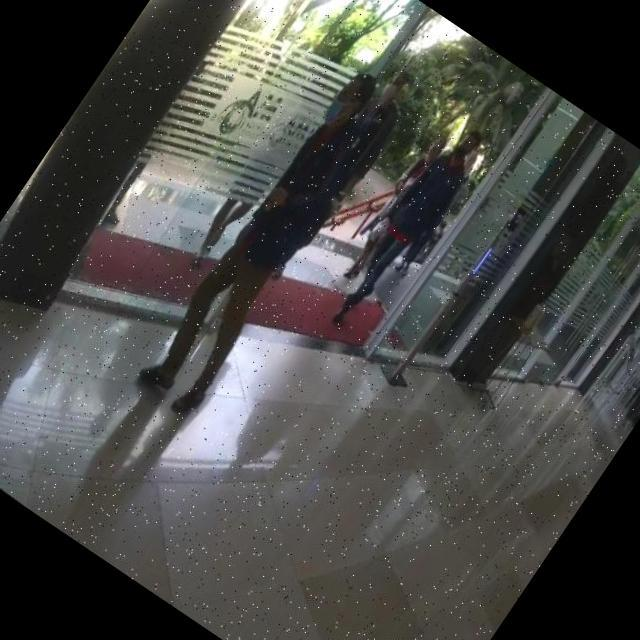person: (126, 60, 417, 432), (316, 114, 496, 344)
